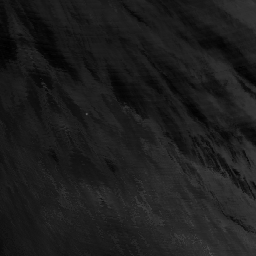Target: (83, 111, 89, 117)
